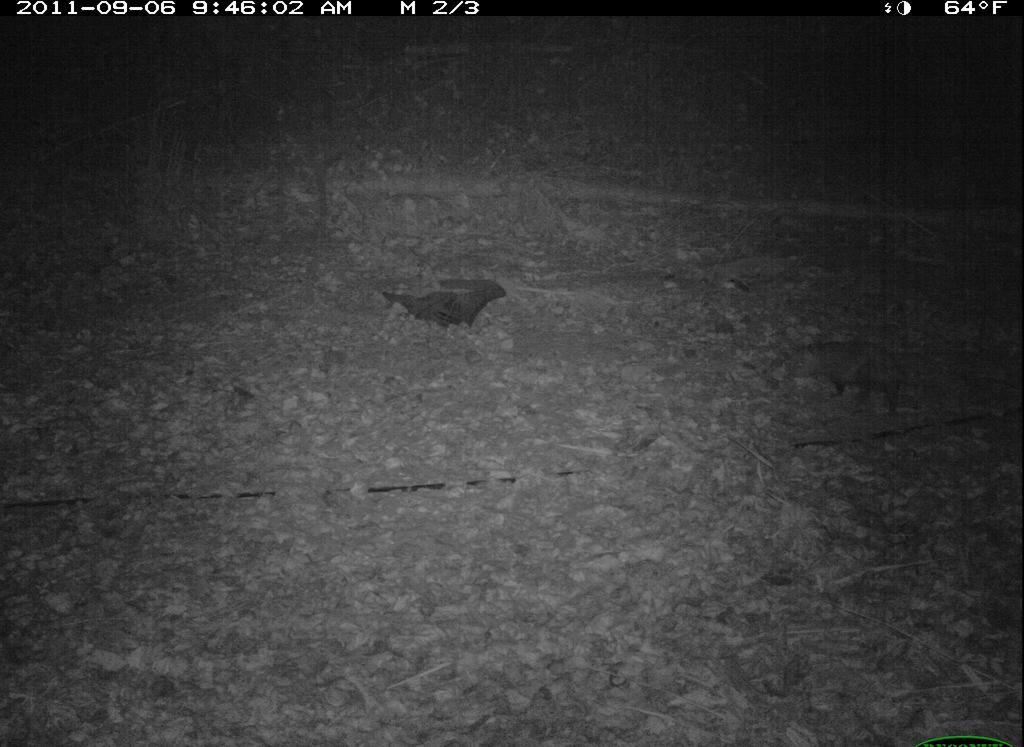opossum: (772, 326, 964, 425)
